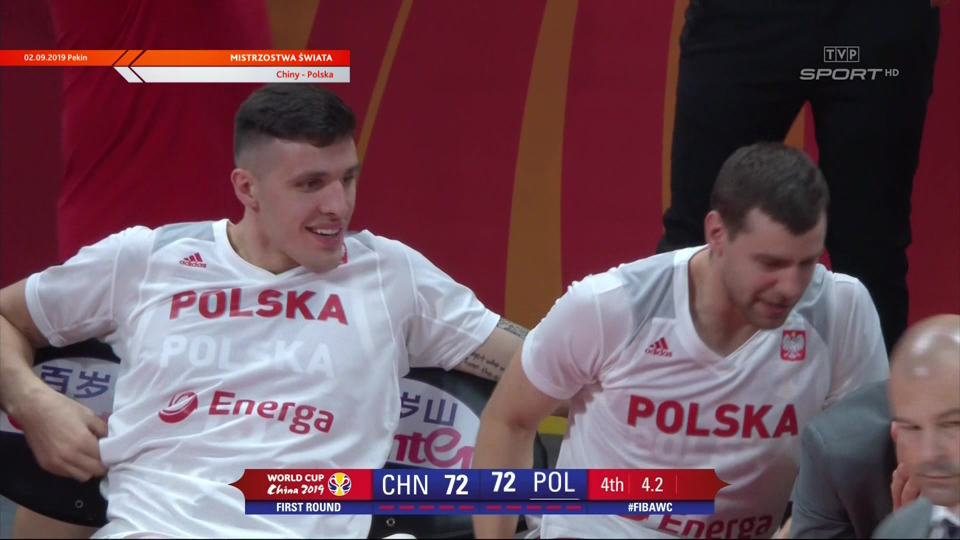Adidas: (645, 336, 672, 357), (180, 249, 208, 269)
